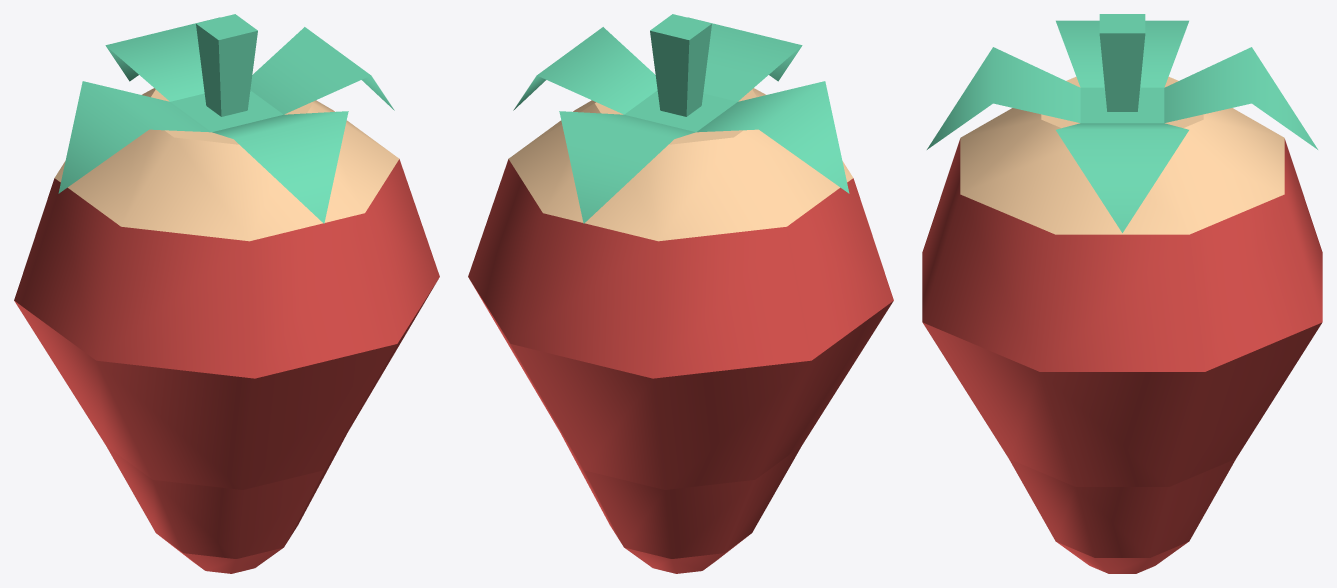
The model's file is Strawberry.glb.
3 renders of one model, left to right at view 1: azimuth 30°, elevation 25°; view 2: azimuth 150°, elevation 25°; view 3: azimuth 270°, elevation 25°, orthographic.
Parts seen in each view (by area): view 1: strawberry; view 2: strawberry; view 3: strawberry.
Boxes of the visible parts, bbox=[...] form: strawberry: bbox=[14, 14, 439, 573]; strawberry: bbox=[468, 14, 893, 573]; strawberry: bbox=[922, 14, 1322, 573].
Bounding box in the file's own units: 0.1197 × 0.177 × 0.1197.
